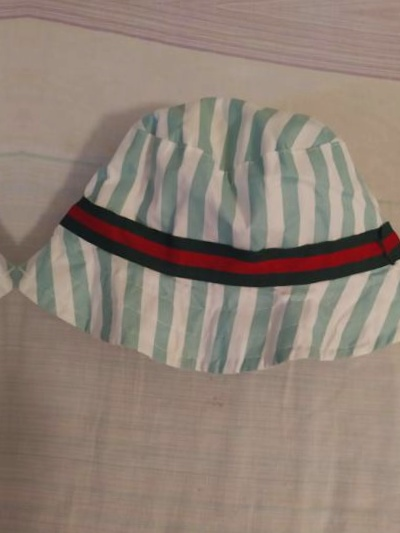Hat: (16, 95, 400, 392), (0, 76, 19, 373)
